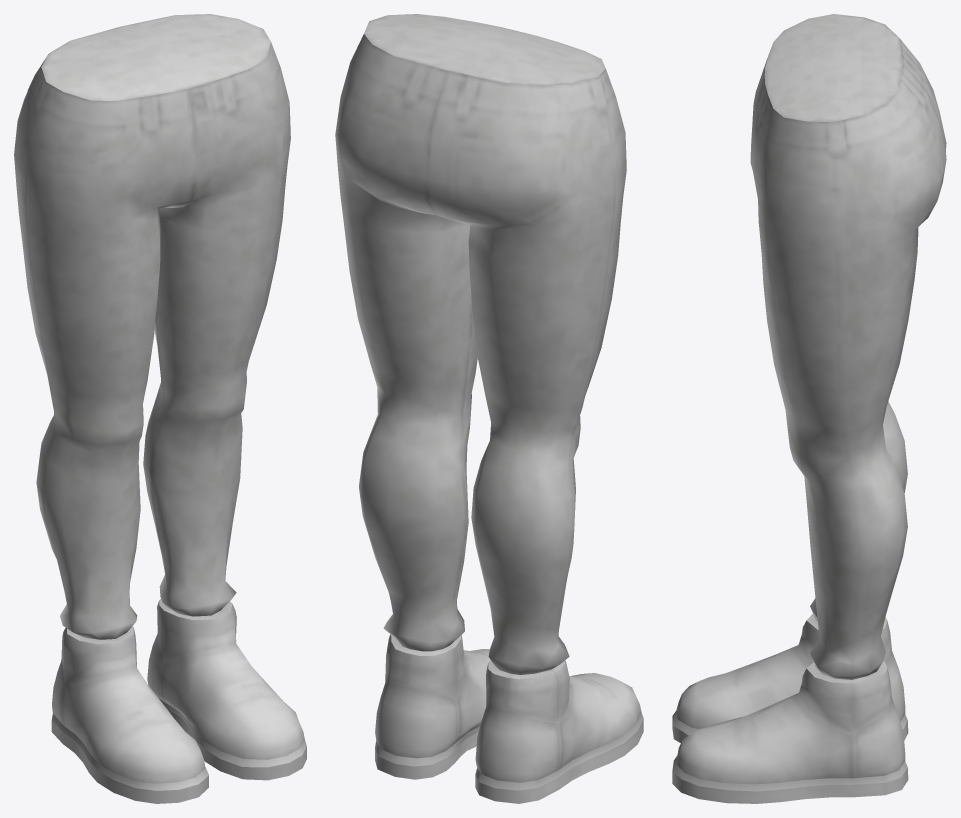
File: tr0870_00_lwb03.gltf
3 views of the same model, side by side, from view 1: azimuth 30°, elevation 25°; view 2: azimuth 150°, elevation 25°; view 3: azimuth 270°, elevation 25° (orthographic). The views are drawn at different scales.
Parts seen in each view (by area): view 1: lwb03_lowerbody_mesh_shape:lowerbody03; view 2: lwb03_lowerbody_mesh_shape:lowerbody03; view 3: lwb03_lowerbody_mesh_shape:lowerbody03.
Boxes of the visible parts, <box> form: lwb03_lowerbody_mesh_shape:lowerbody03: <box>14,14,306,803</box>; lwb03_lowerbody_mesh_shape:lowerbody03: <box>335,14,643,803</box>; lwb03_lowerbody_mesh_shape:lowerbody03: <box>672,14,946,803</box>.
Size of what is drawn, in the model's own units: 0.3785 by 0.9735 by 0.3461.
Materials: 1 (1 with a texture image).
